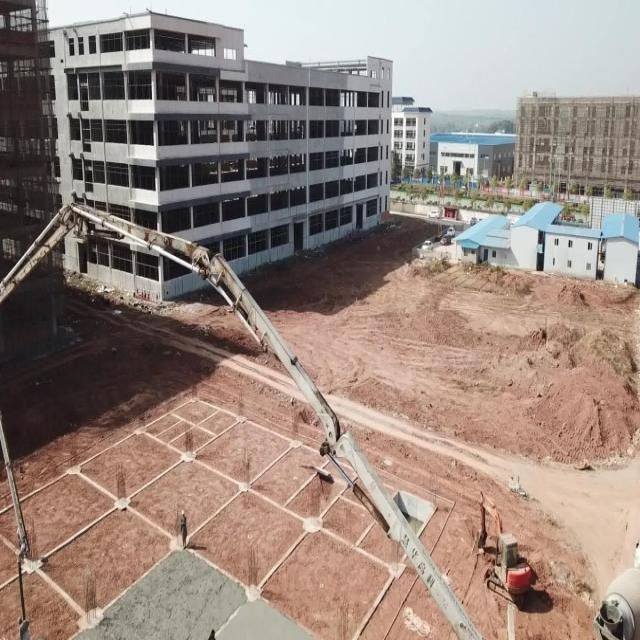excavator: (469, 487, 538, 617)
truck: (0, 189, 504, 640)
